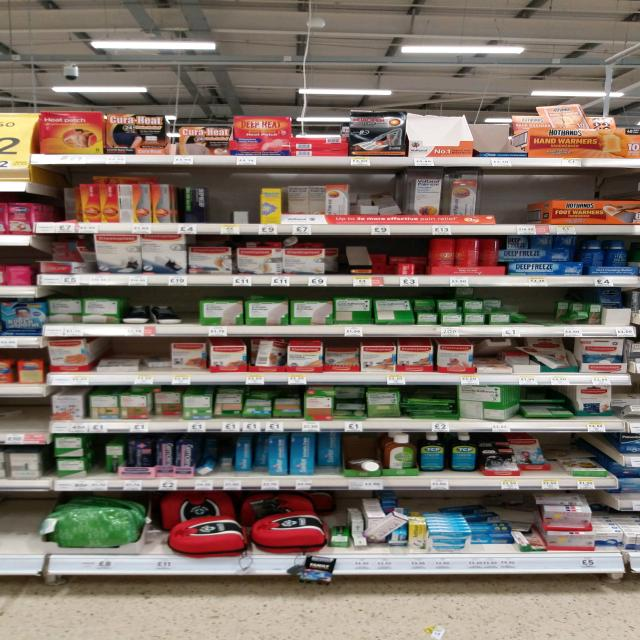empty: (1, 495, 49, 552), (495, 175, 549, 223), (14, 397, 54, 435), (205, 180, 233, 224)
